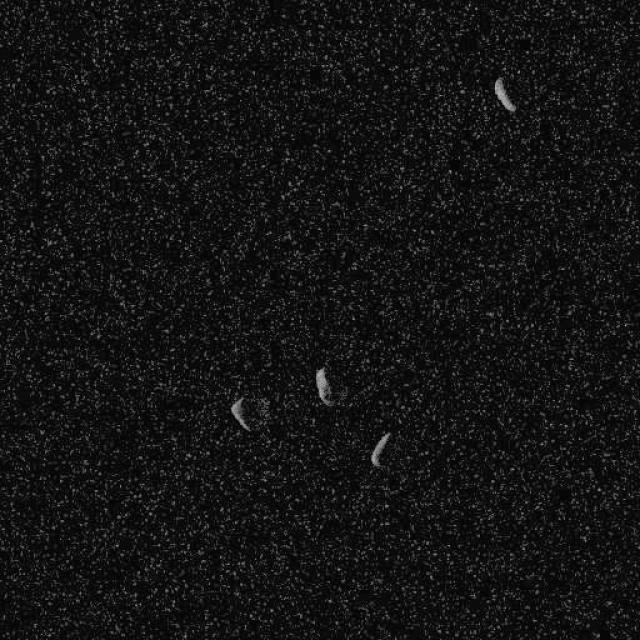D2: (492, 75, 516, 113), (314, 365, 335, 406), (369, 430, 391, 468), (229, 395, 251, 431)
